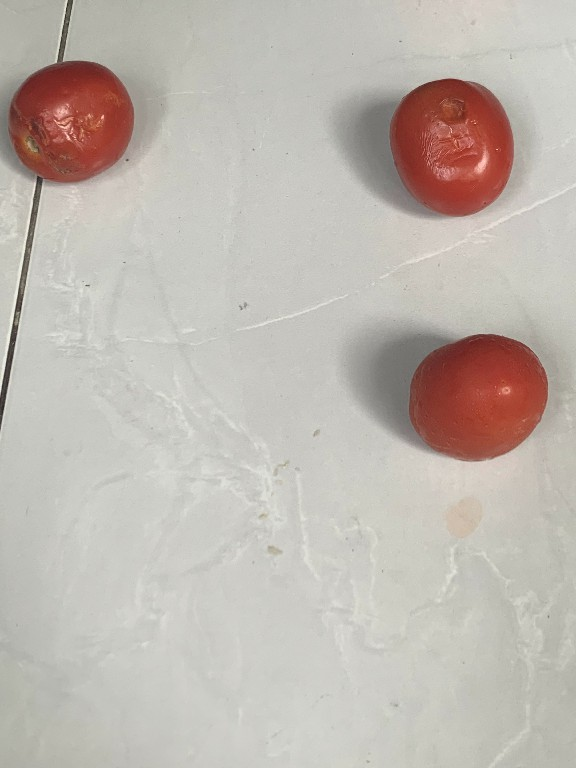NG: (388, 71, 518, 221), (4, 51, 140, 184)
OK: (396, 326, 556, 465)
